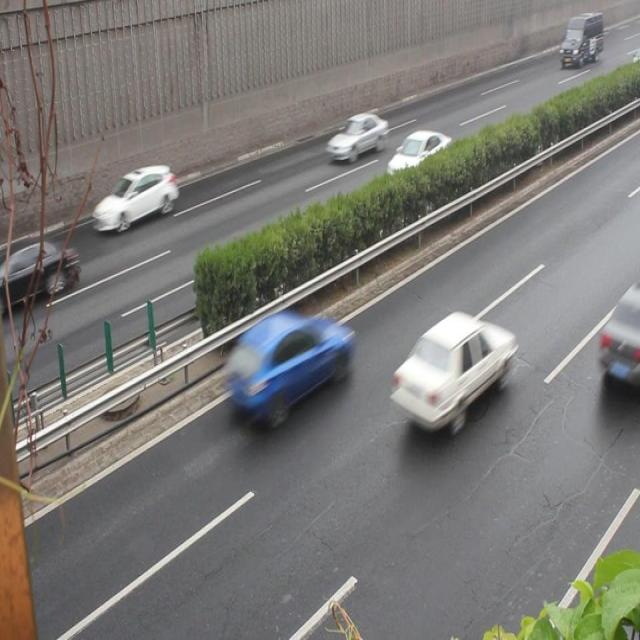car: (390, 312, 514, 433), (225, 314, 354, 424), (92, 164, 178, 234), (1, 235, 78, 305), (595, 288, 640, 386), (385, 130, 453, 188), (324, 113, 389, 163)
